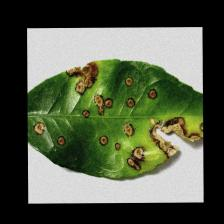canker: (59, 65, 197, 166)
